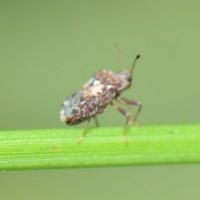insect: (60, 55, 141, 143)
